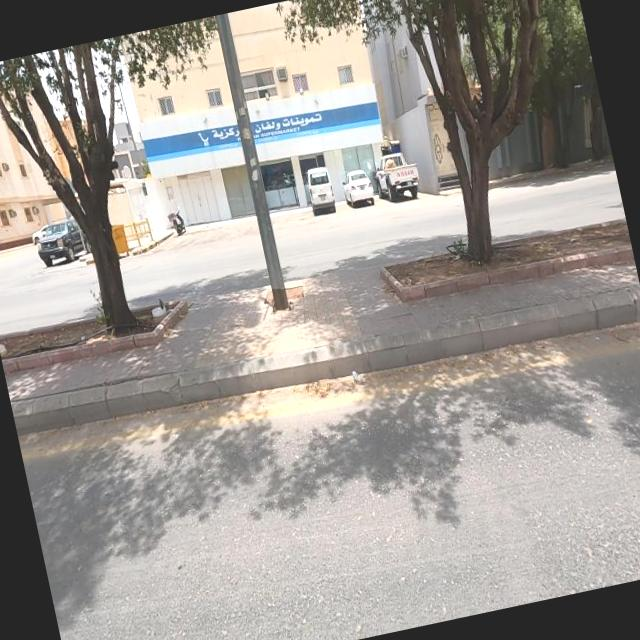debris: (328, 333, 386, 420)
